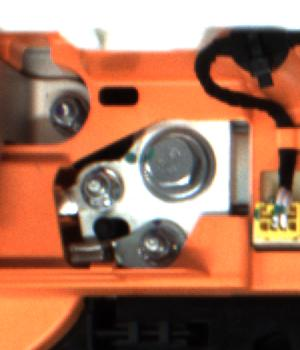nut_b: (134, 126, 220, 200)
